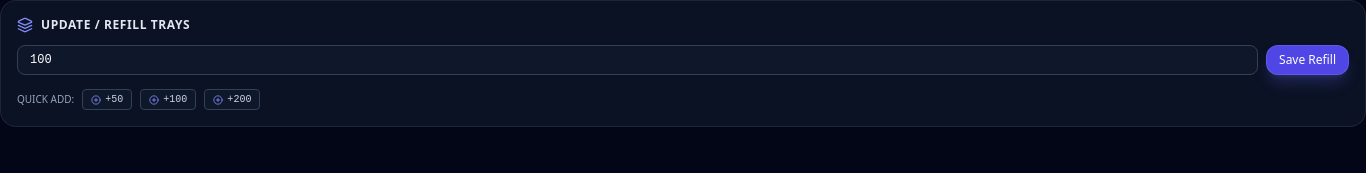
Test: TrayCapacityForm › displays error when update fails
The width and height of the screenshot is (1366, 173).
Click the button "Save Refill": x=1308, y=60 [1266,45,1349,75]
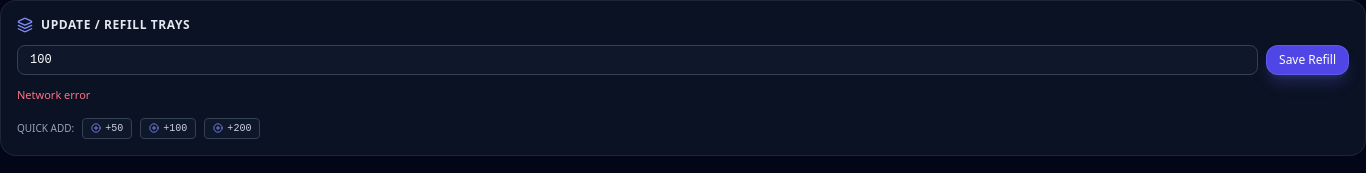
Expected: the text "Network error" is shown, [17,87,90,102]
